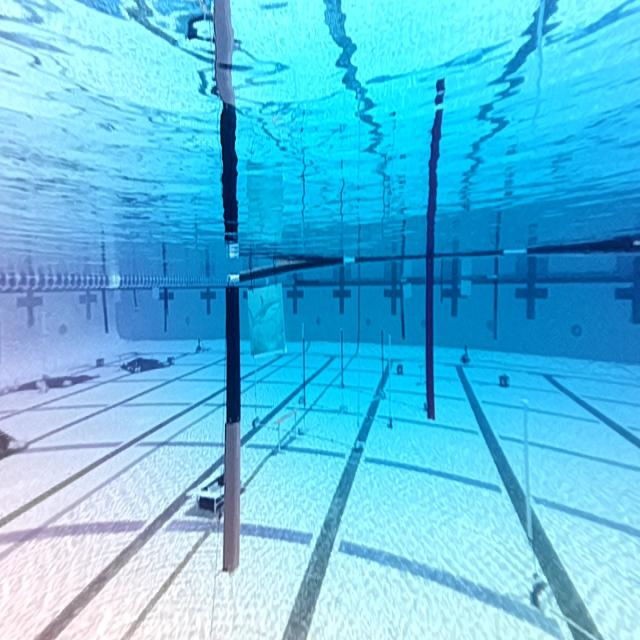round_nose: (246, 284, 286, 359)
